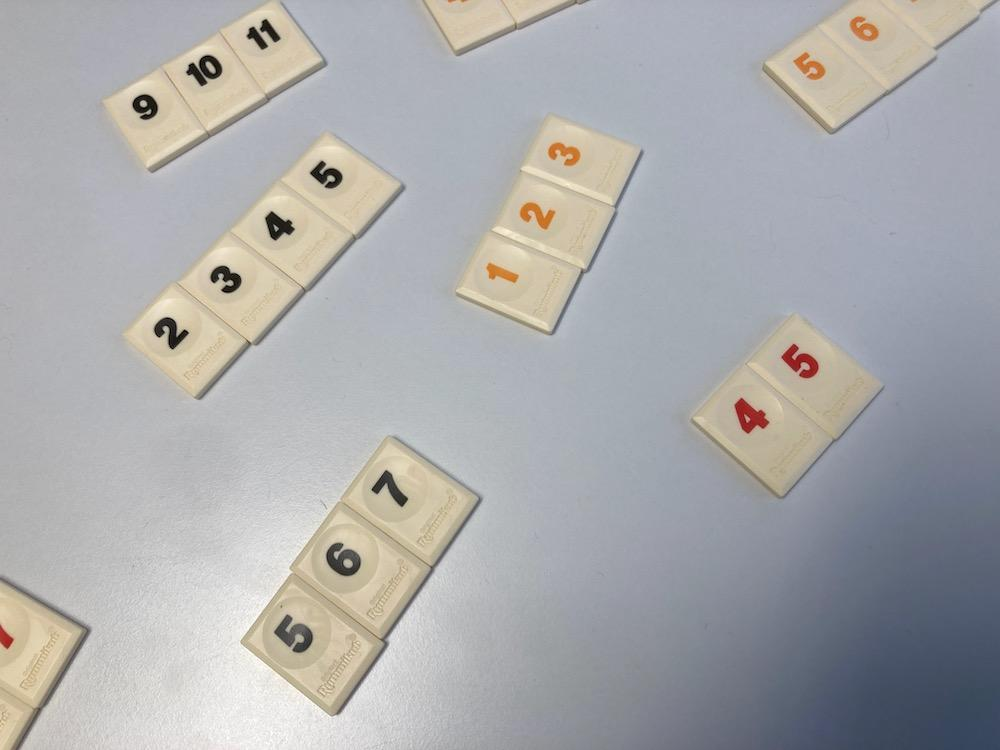black_10: (162, 33, 266, 135)
black_11: (221, 0, 324, 98)
black_2: (123, 283, 246, 398)
black_3: (180, 232, 301, 344)
black_4: (232, 182, 352, 287)
black_5: (242, 574, 383, 715), (281, 133, 402, 236)
black_6: (291, 504, 430, 639)
black_7: (342, 436, 479, 566)
black_9: (105, 68, 207, 172)
orange_1: (455, 232, 580, 332)
orange_2: (492, 173, 615, 270)
orange_3: (522, 113, 641, 205)
orange_5: (764, 27, 885, 133)
orange_6: (818, 0, 936, 90)
red_4: (693, 365, 832, 496)
red_5: (749, 312, 883, 439)
